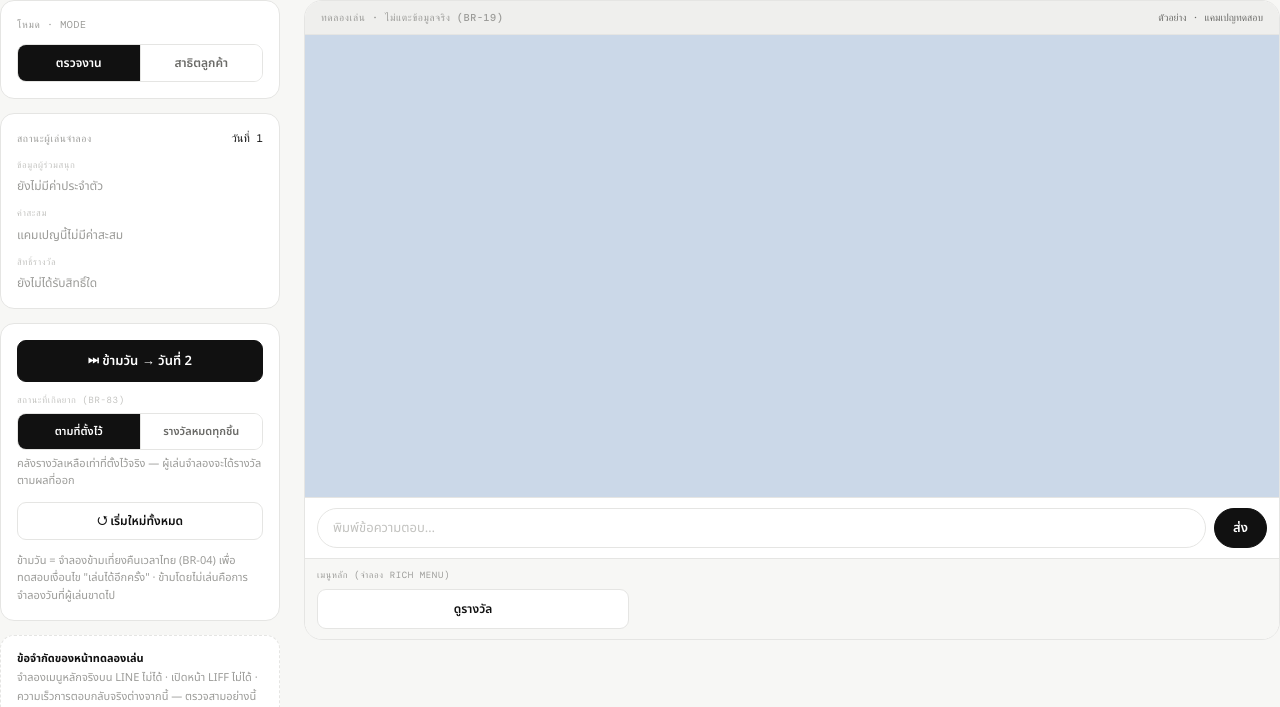
Test: พิมพ์คุยกับกติกา › ปุ่มในเมนูจำลองส่งคีย์เวิร์ดของตัวเอง
Click the button "ดูรางวัล" at (473, 609), box [317,589,629,629]
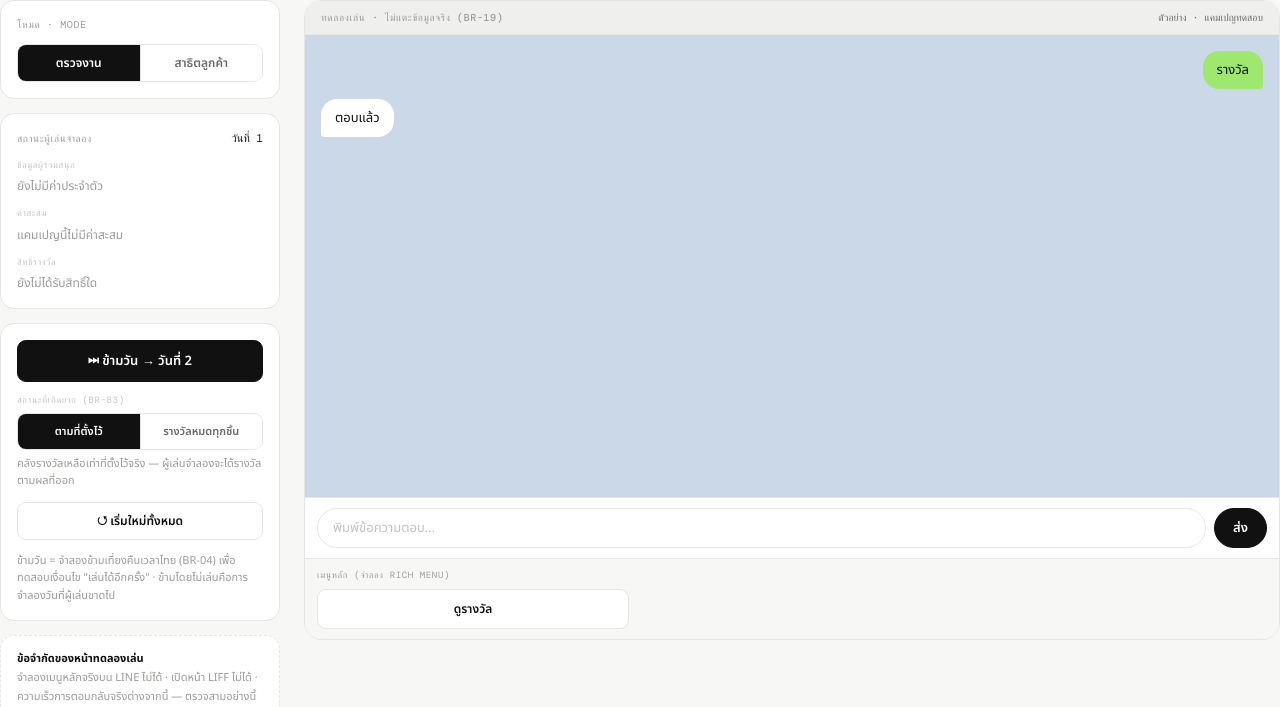
Check: the text "ตอบแล้ว" is shown, box [321,99,394,137]
